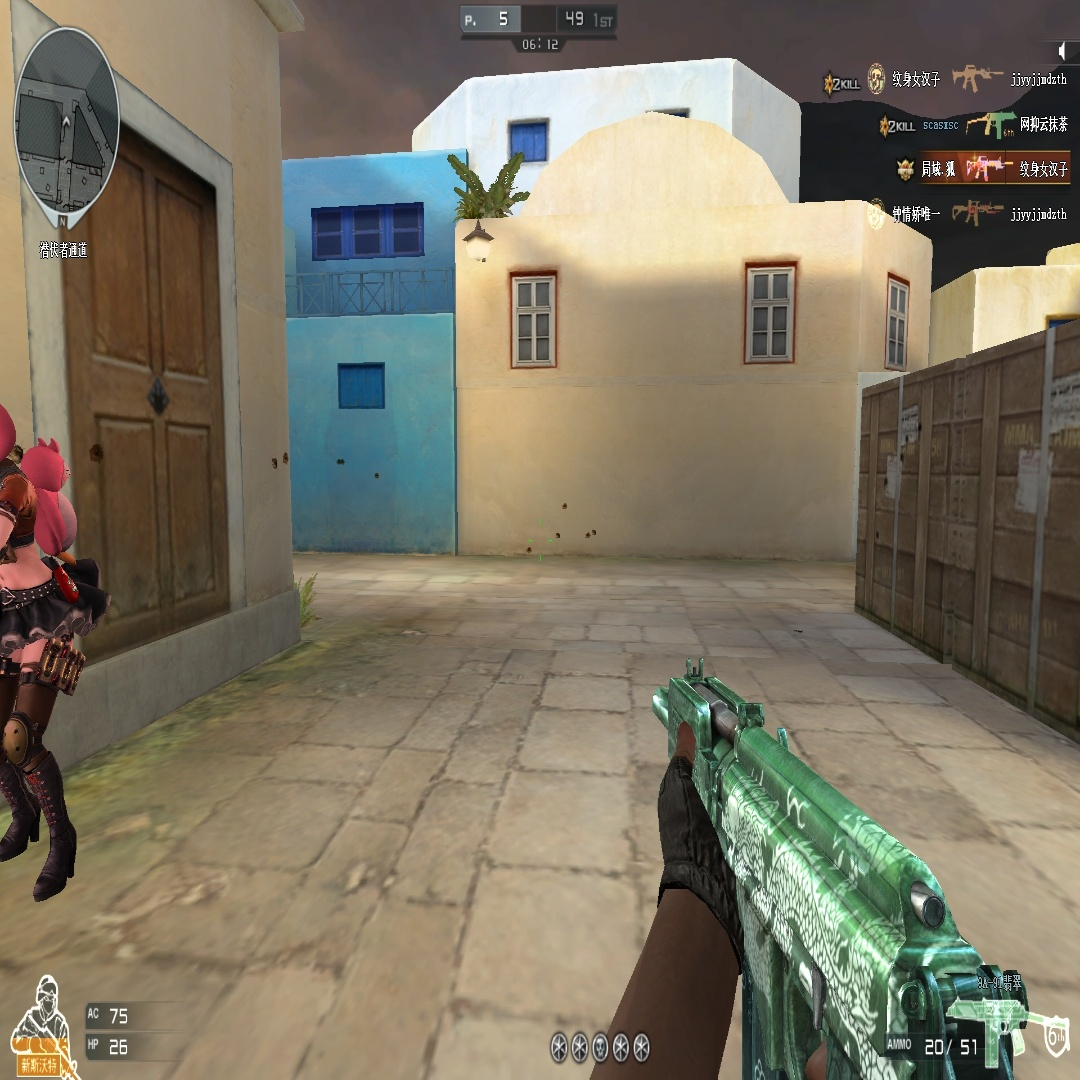p: (0, 402, 112, 903)
